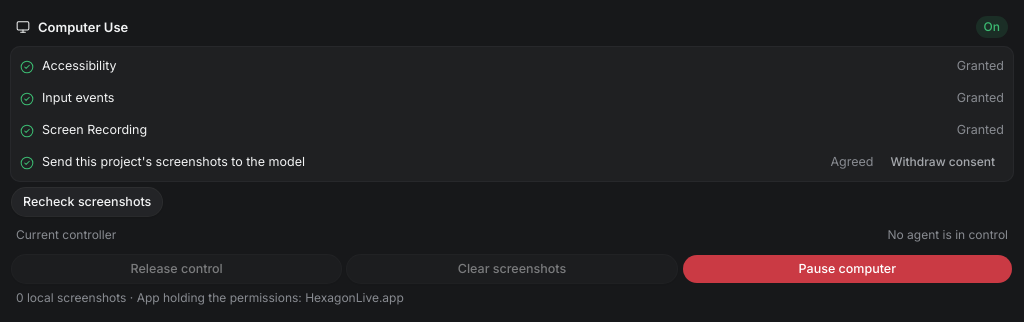
Test: does not let a late status poll undo a completed pause, and keeps Pause separate from Send
Click the button "Pause computer". click: click(847, 269)
box: [683,255,1012,283]
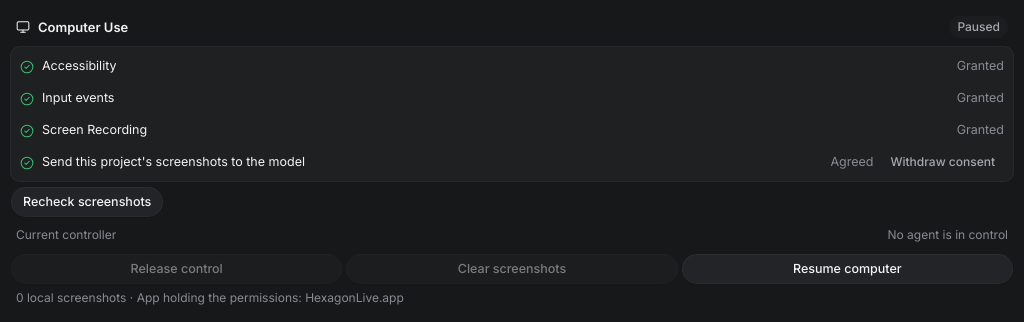
Expected: the text "Paused" is shown, [949,16,1008,38]
